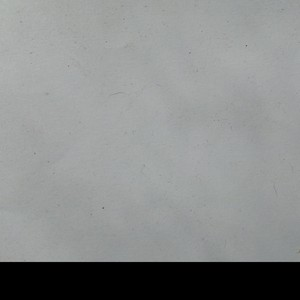base: (1, 1, 300, 261)
